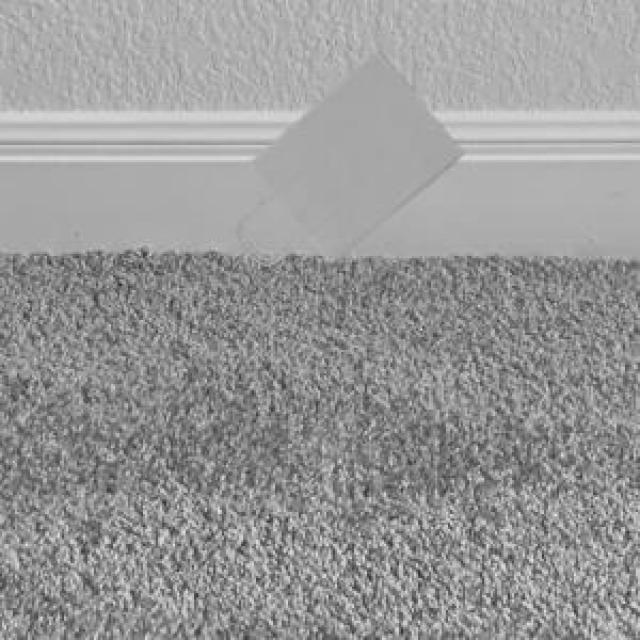paper: (245, 49, 459, 260)
